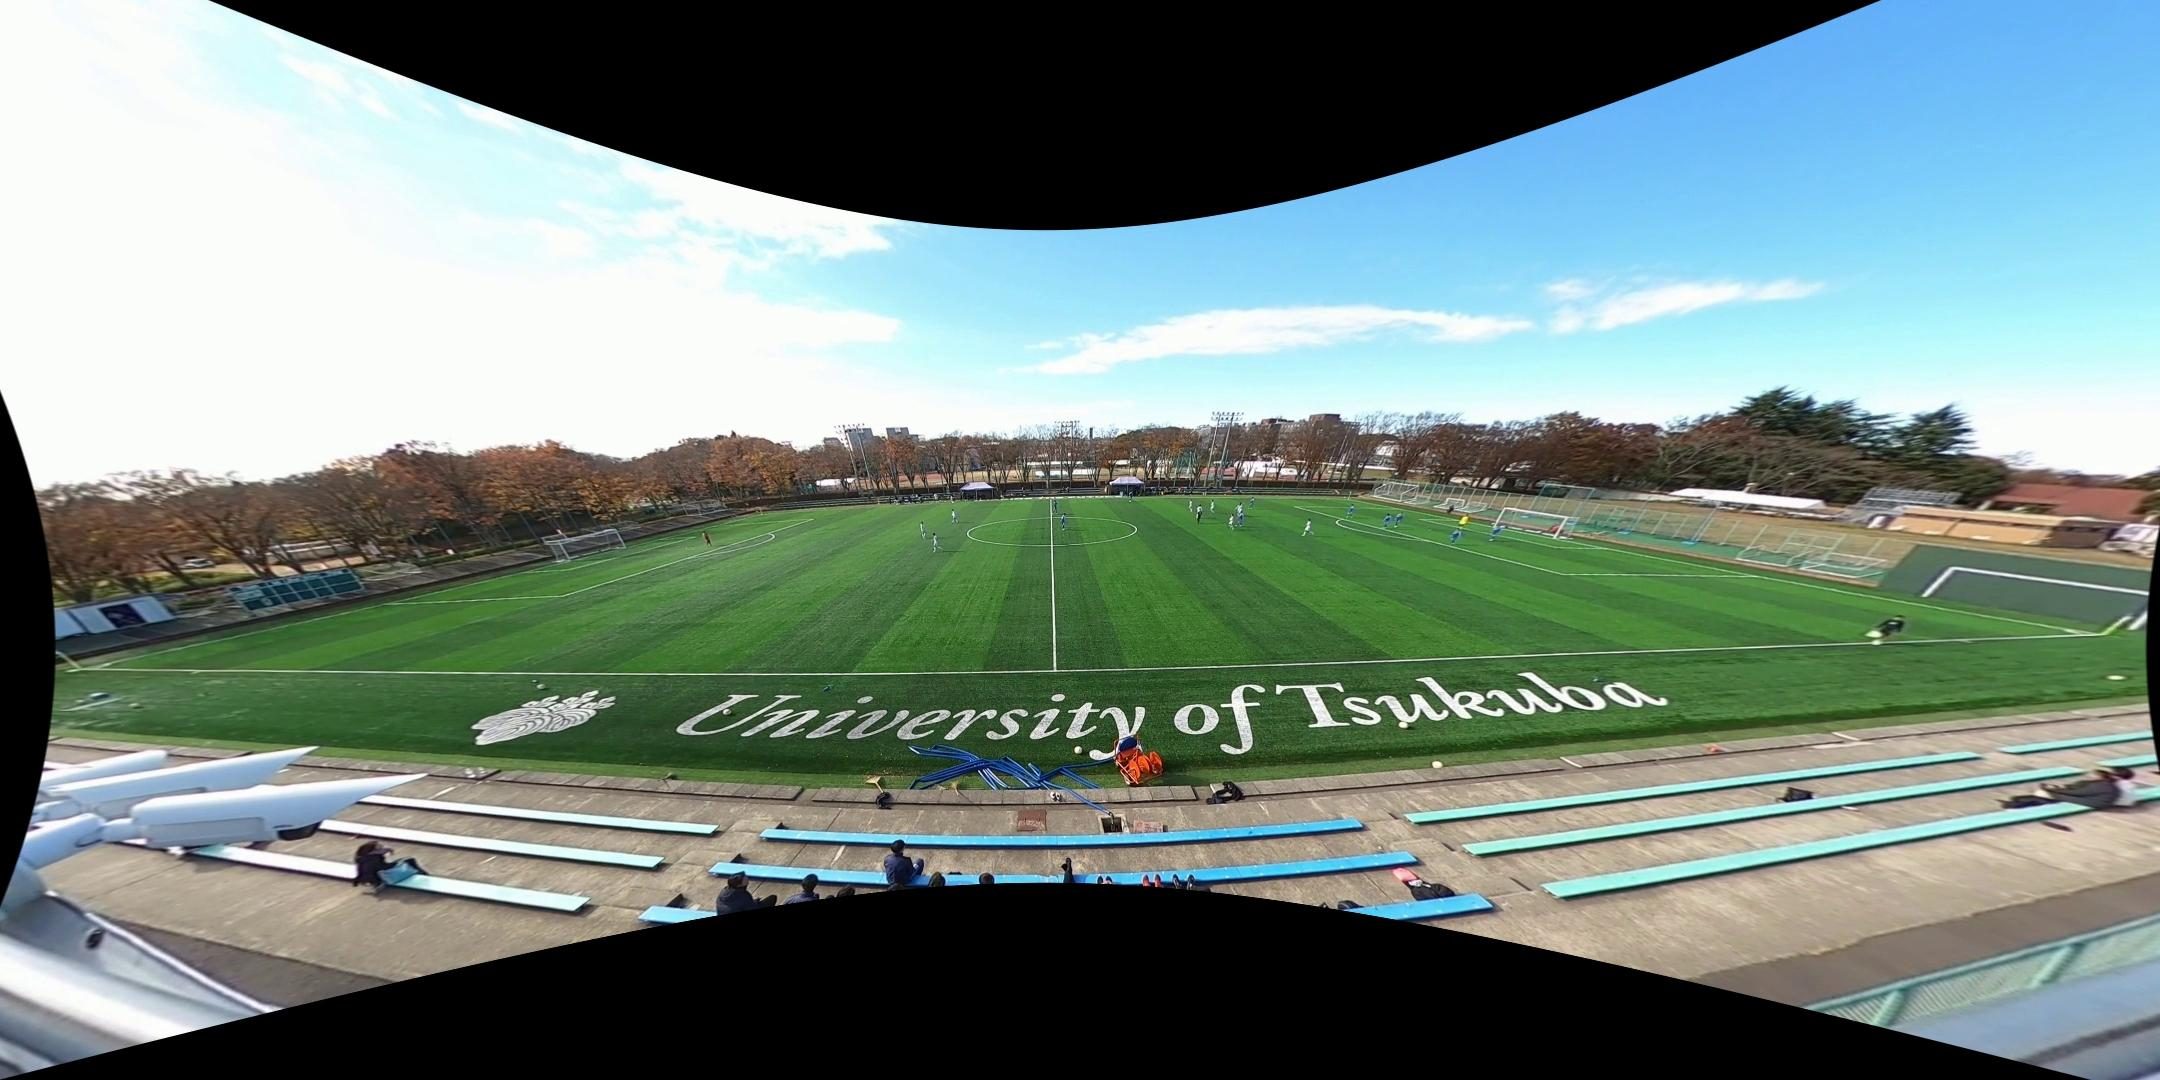person: (1871, 615, 1906, 643), (931, 533, 945, 553), (1487, 524, 1503, 541), (1301, 519, 1315, 536), (1451, 528, 1463, 544), (919, 520, 928, 540), (702, 531, 713, 546), (1458, 514, 1469, 529), (1235, 502, 1244, 520), (1196, 504, 1204, 524), (1382, 513, 1392, 529), (1394, 511, 1404, 527), (1345, 504, 1355, 518), (1236, 511, 1244, 527), (1060, 513, 1067, 531), (951, 509, 959, 524), (1228, 514, 1235, 530), (1196, 508, 1203, 524), (1209, 499, 1216, 514), (1052, 500, 1058, 516), (1248, 497, 1255, 509), (1189, 499, 1194, 514), (1128, 491, 1133, 503)
sports ball: (1429, 758, 1446, 774), (1397, 719, 1412, 731), (128, 700, 142, 711), (1074, 743, 1084, 756), (721, 707, 733, 717), (536, 682, 547, 692)
